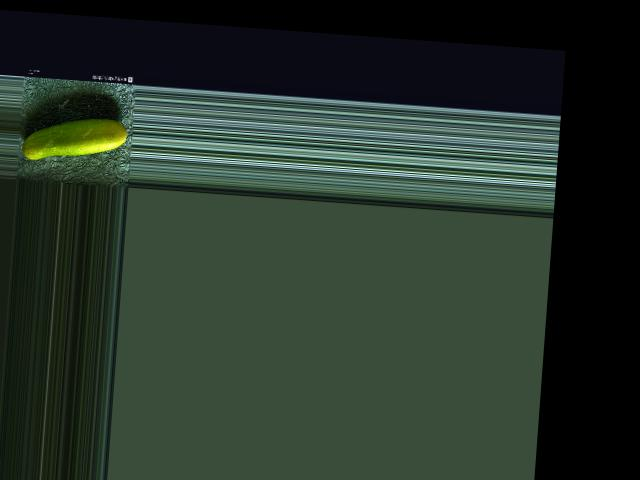cucumber: (21, 112, 127, 166)
